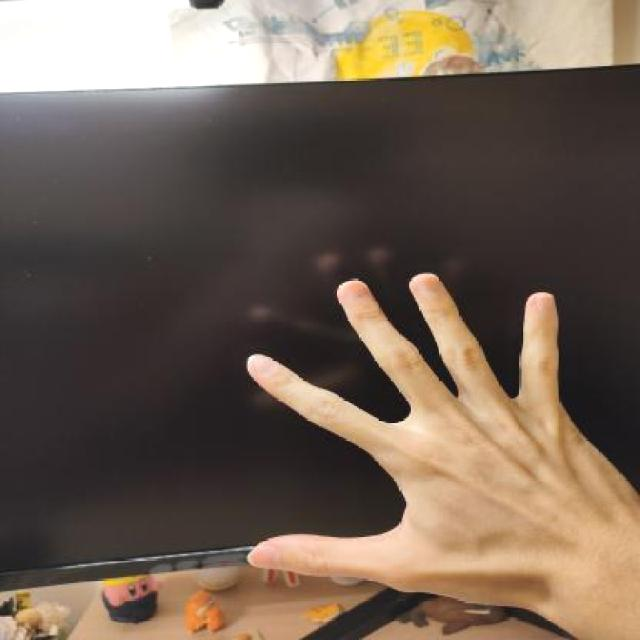no_glove: (233, 255, 638, 640)
